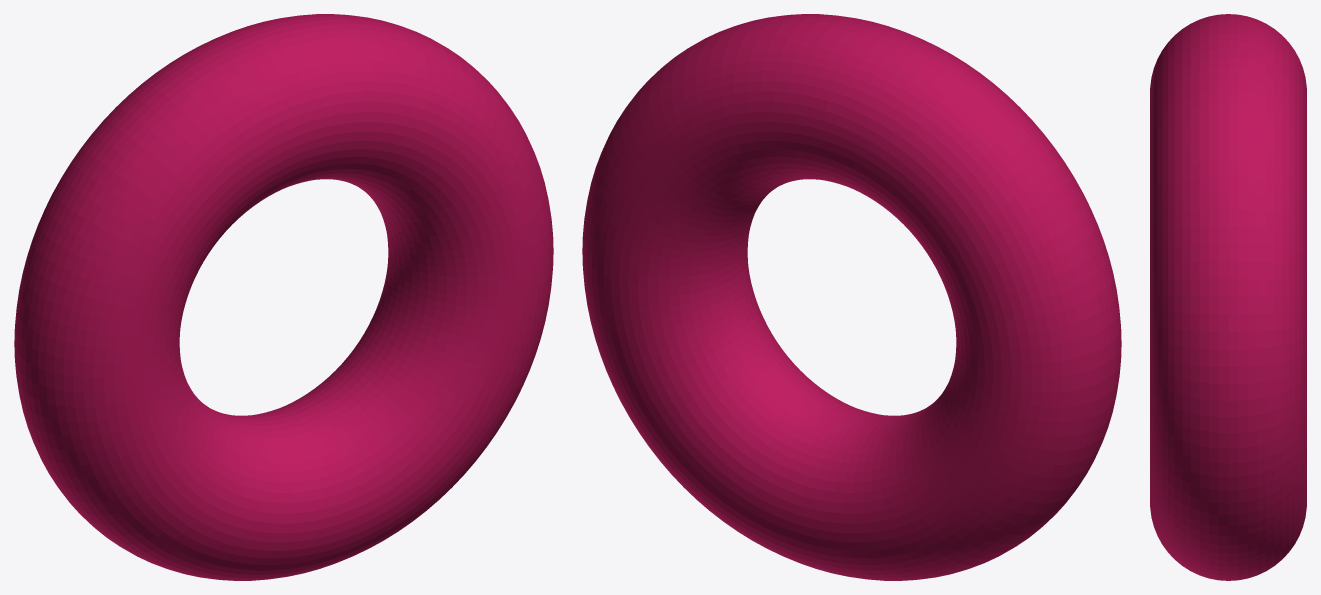
3 renders of one model, left to right at view 1: azimuth 30°, elevation 25°; view 2: azimuth 150°, elevation 25°; view 3: azimuth 270°, elevation 25°, orthographic. The views are drawn at different scales.
Visible parts, largest first — view 1: world; view 2: world; view 3: world.
Part boxes in pixels (x1=…): world: x1=14, y1=14, x2=553, y2=580; world: x1=582, y1=14, x2=1121, y2=580; world: x1=1150, y1=14, x2=1306, y2=580.
Size of the model in its own units: 32.27 by 32.27 by 8.92.
